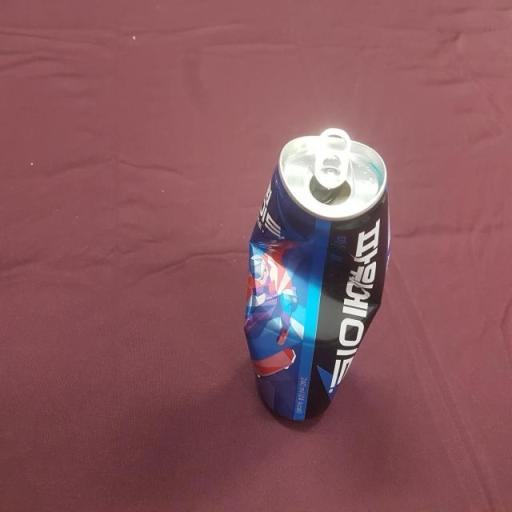metal: (226, 114, 406, 461)
